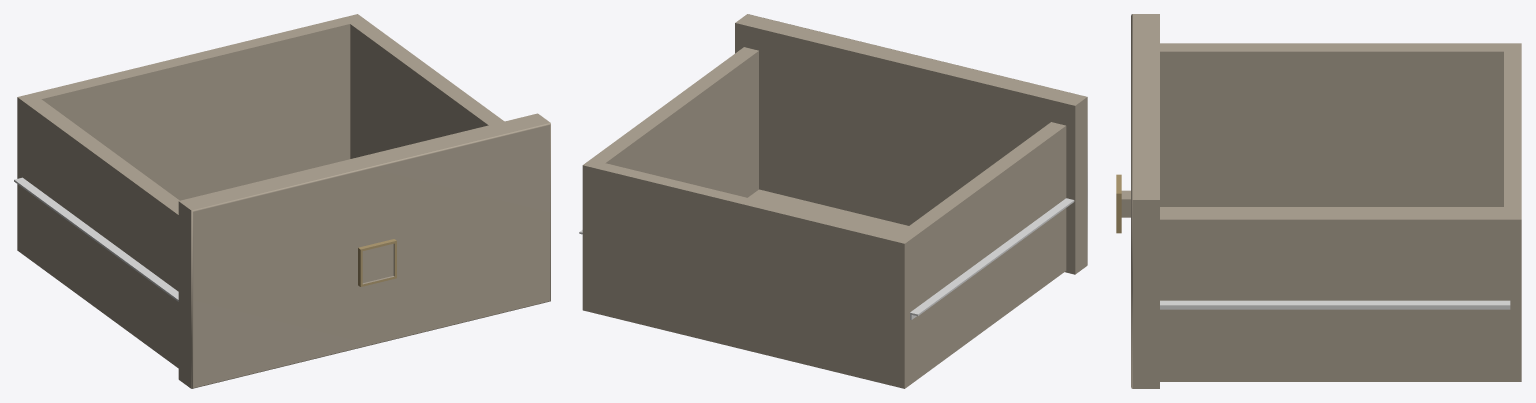
The model's file is SM_Bed_Drawer_Openable_Part.FBX.
The picture shows the model from 3 angles, left to right: view 1: azimuth 30°, elevation 25°; view 2: azimuth 150°, elevation 25°; view 3: azimuth 270°, elevation 25°; orthographic projection. The views are drawn at different scales.
Visible parts, largest first — view 1: SM_Bed_Drawer_Openable_Part; view 2: SM_Bed_Drawer_Openable_Part; view 3: SM_Bed_Drawer_Openable_Part.
Boxes of the visible parts, x1=… form: SM_Bed_Drawer_Openable_Part: x1=14, y1=14, x2=550, y2=388; SM_Bed_Drawer_Openable_Part: x1=579, y1=14, x2=1087, y2=388; SM_Bed_Drawer_Openable_Part: x1=1116, y1=14, x2=1521, y2=388.
Bounding box in the file's own units: 46.93 × 43.24 × 22.27.
